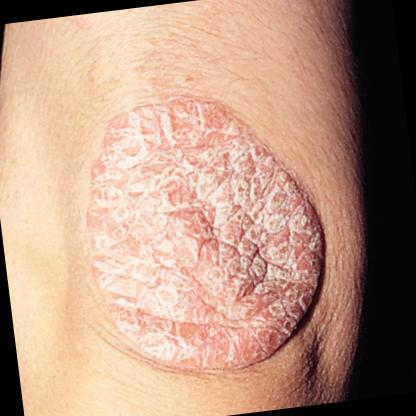Psoriasis: (62, 81, 336, 386)
